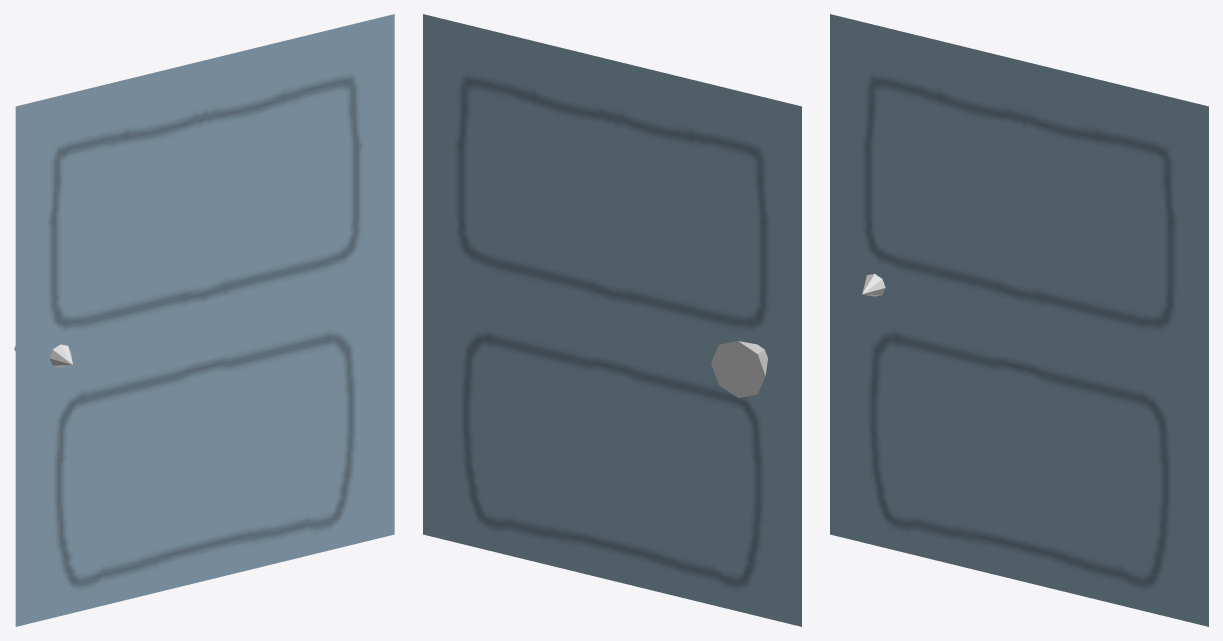
File: door.fbx
3 renders of one model, left to right at view 1: azimuth 30°, elevation 25°; view 2: azimuth 150°, elevation 25°; view 3: azimuth 330°, elevation 25°, orthographic.
Visible parts, largest first — view 1: door; view 2: door, doorKnob; view 3: door.
Boxes of the visible parts, x1=… form: door: x1=15, y1=14, x2=394, y2=626; door: x1=423, y1=14, x2=801, y2=626; doorKnob: x1=711, y1=341, x2=767, y2=397; door: x1=830, y1=14, x2=1208, y2=626.
Bounding box in the file's own units: 80 × 105 × 11.52.
